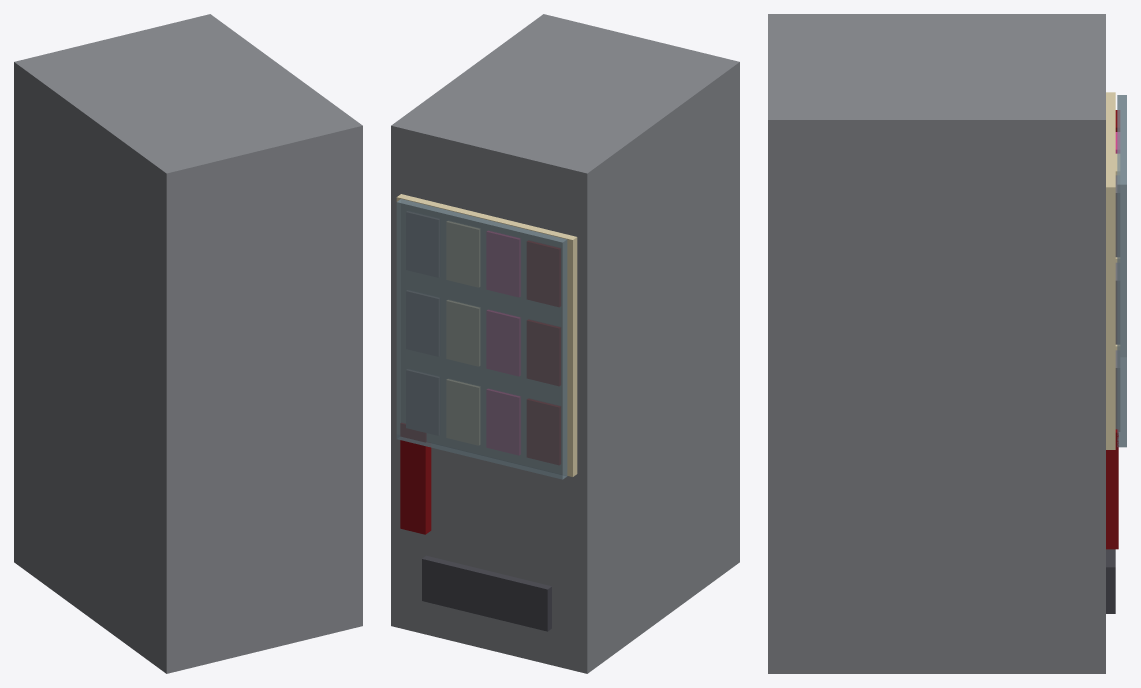
File: SM_K_Vending.obj
3 views of the same model, side by side, from view 1: azimuth 30°, elevation 25°; view 2: azimuth 150°, elevation 25°; view 3: azimuth 270°, elevation 25° (orthographic). The views are drawn at different scales.
Visible parts, largest first — view 1: SM_K_Vending; view 2: SM_K_Vending; view 3: SM_K_Vending.
Boxes of the visible parts, x1,y1,x2,y2 form: SM_K_Vending: (14, 14, 362, 673); SM_K_Vending: (391, 14, 739, 673); SM_K_Vending: (768, 14, 1126, 673).
Bounding box in the file's own units: 0.78 × 1.9 × 1.11.
